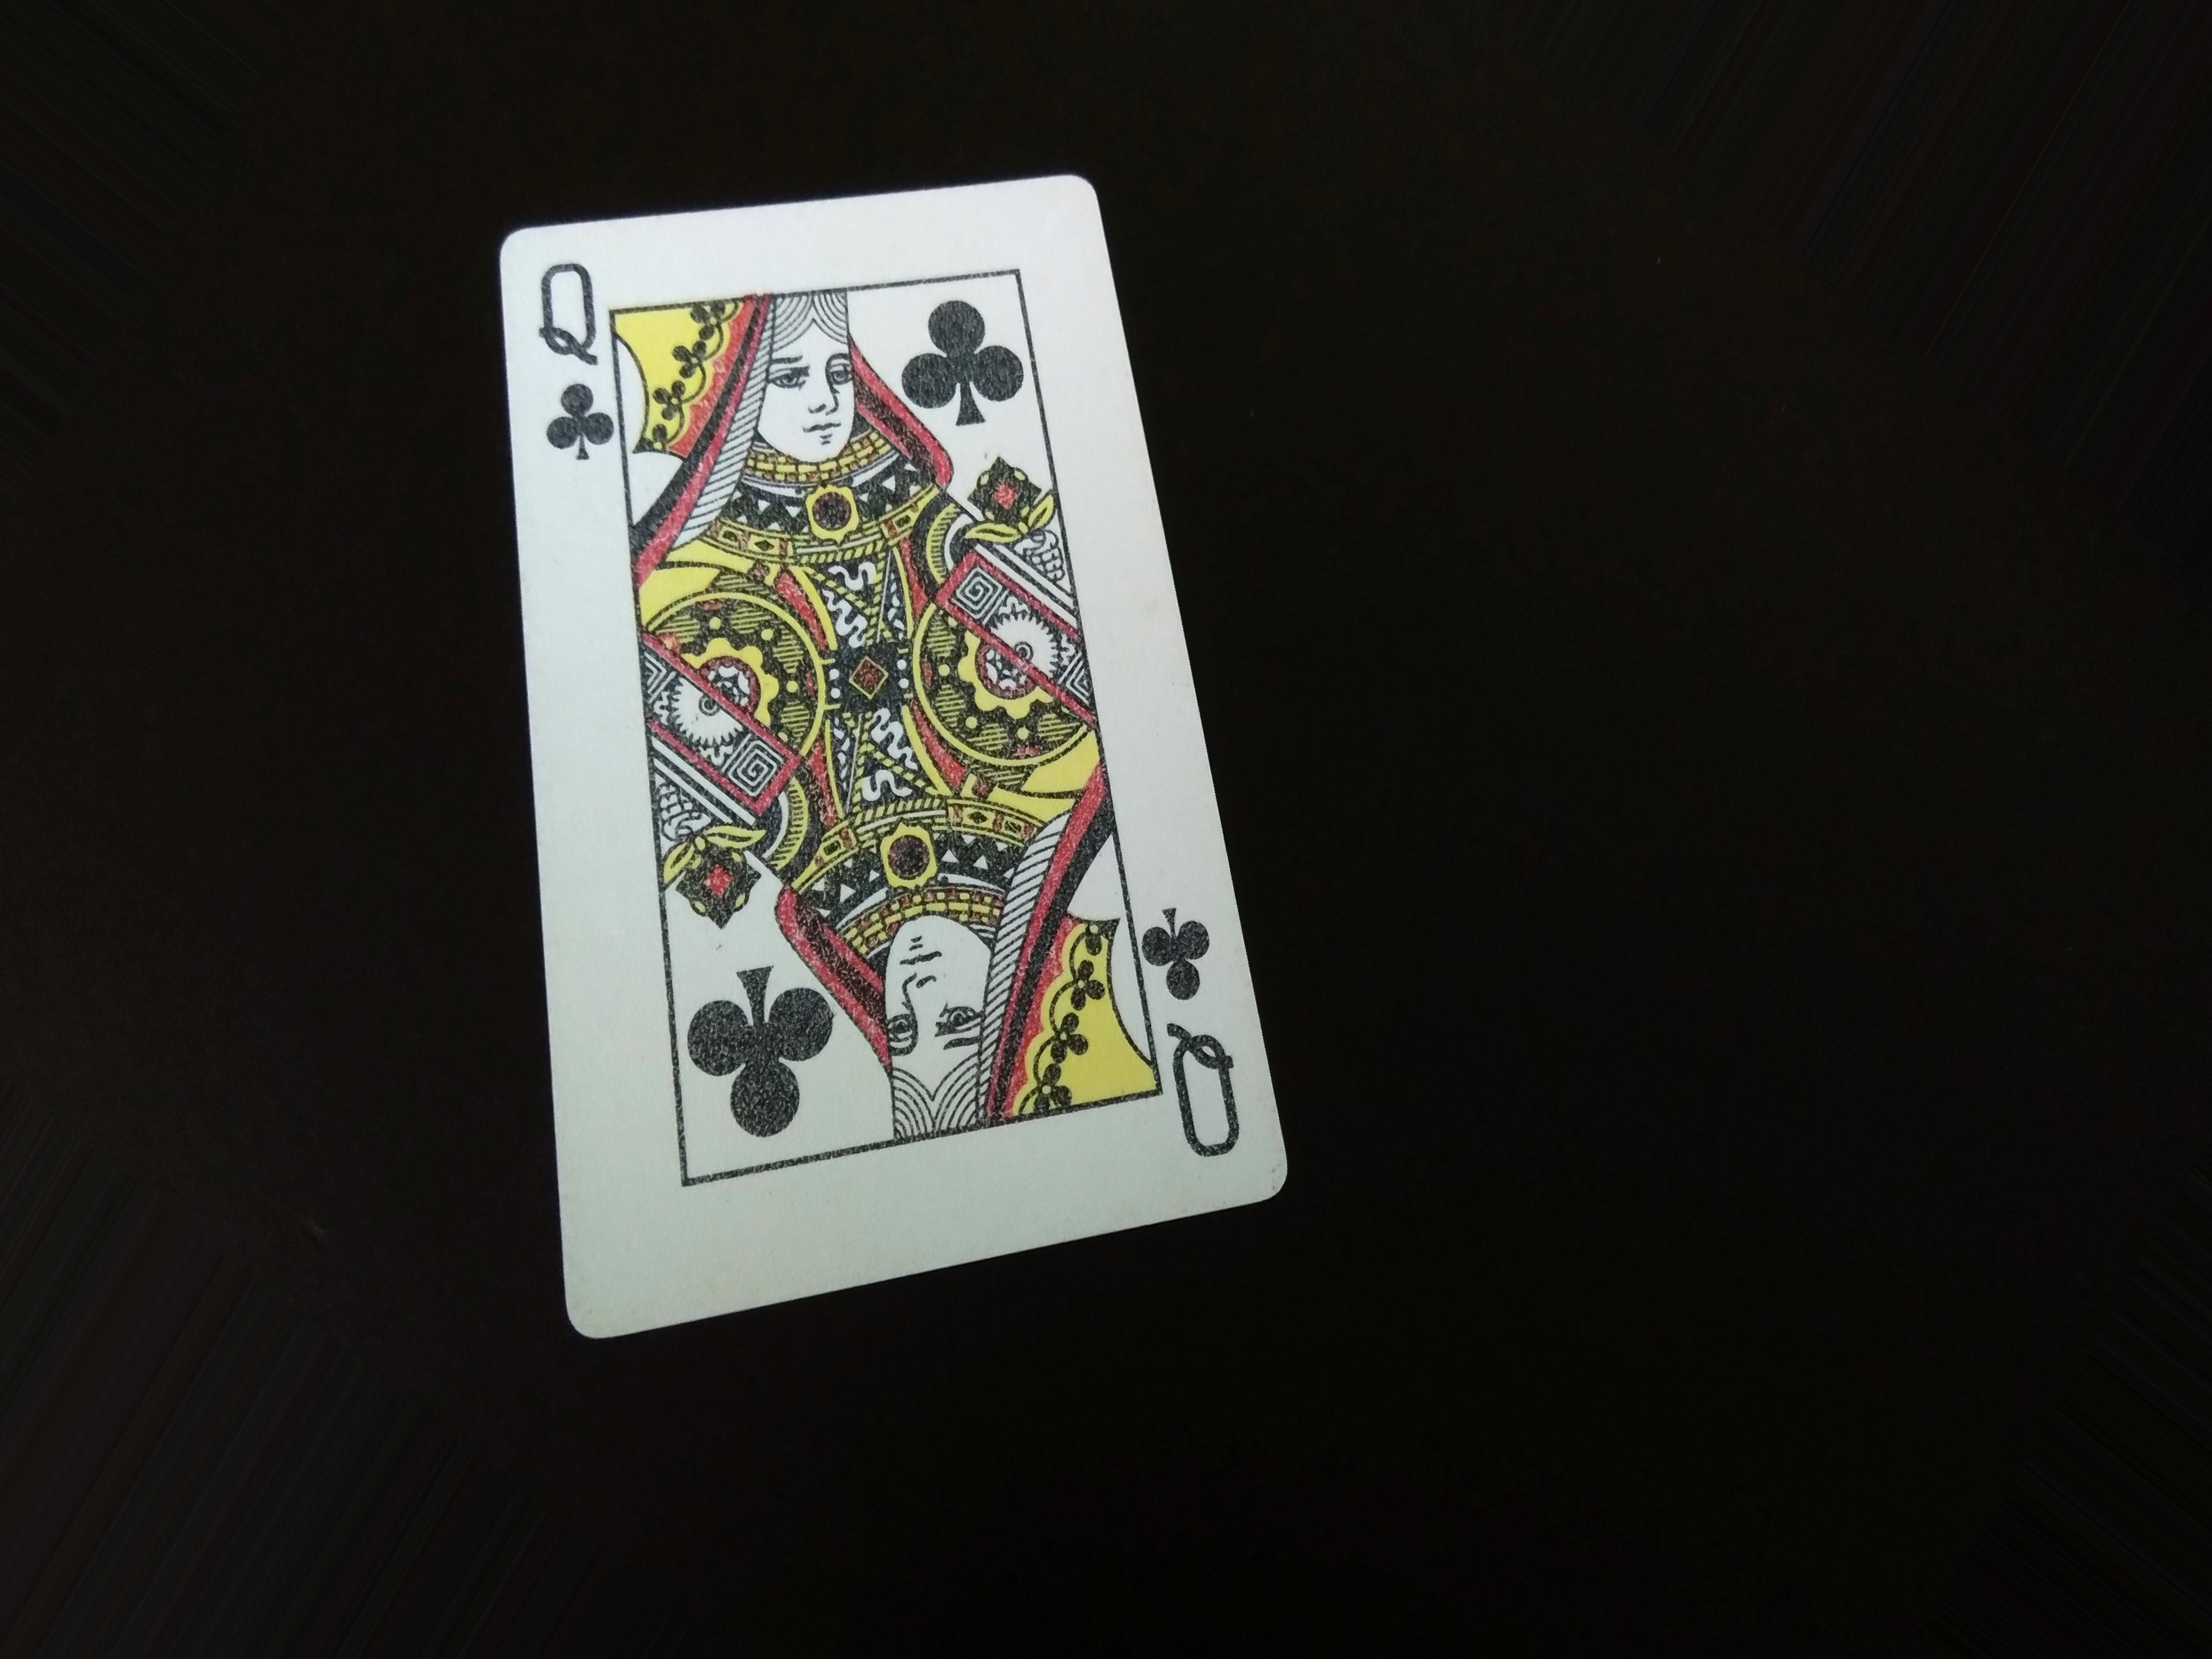QC: (524, 228, 622, 472)
